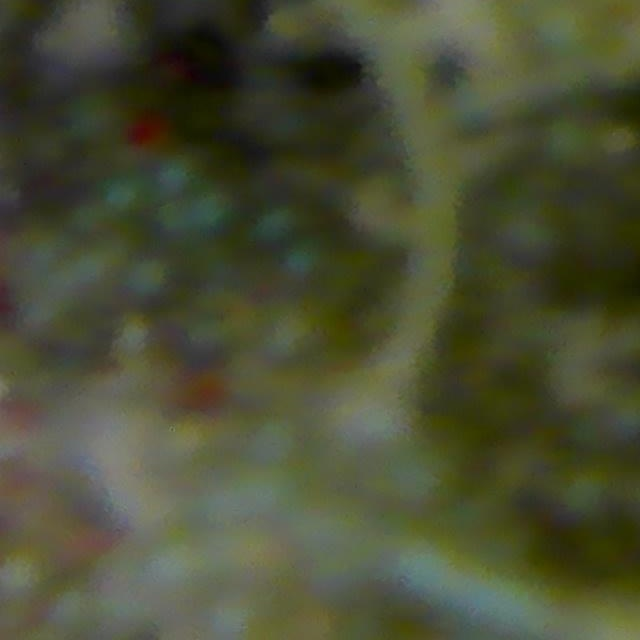SeaGrape: (63, 87, 131, 150), (166, 181, 236, 242), (149, 146, 204, 200), (122, 253, 173, 303)
